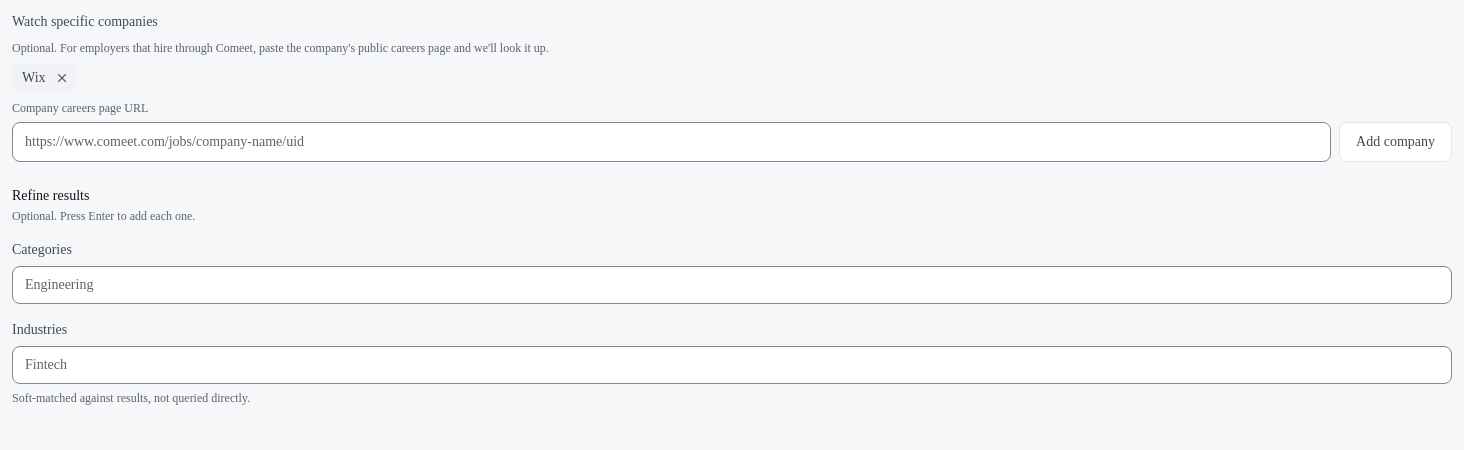
StepSources › rejects a response whose company is already watched
The image size is (1464, 450).
In the field labelled "Company careers page URL": (672, 142) [12,122,1331,162], type "https://other.test/page"
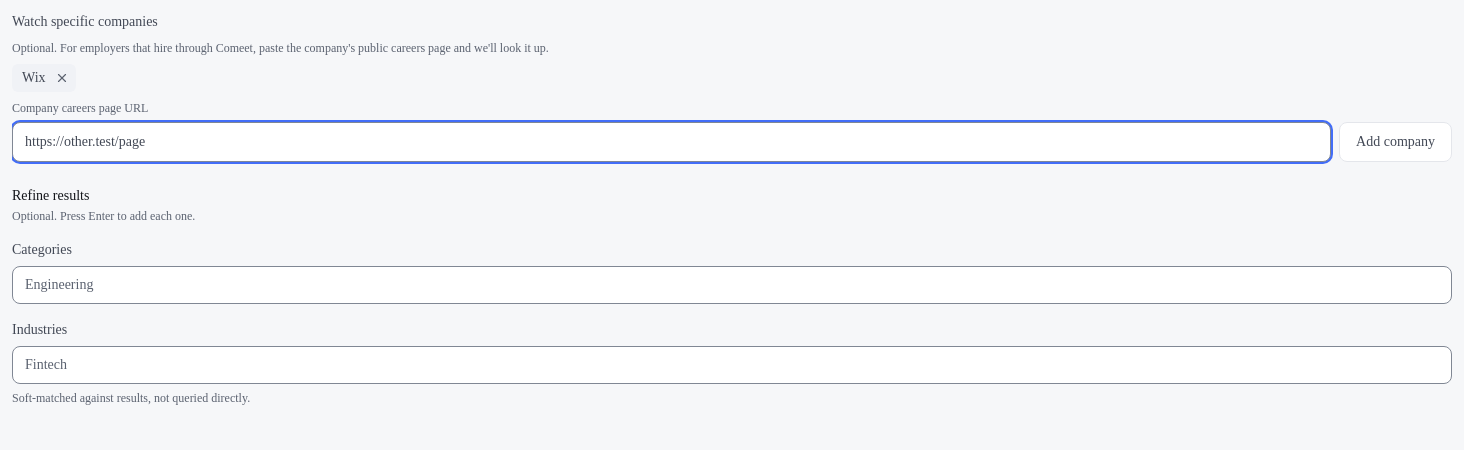
Click the button "Add company": (1396, 142) [1339,122,1452,162]
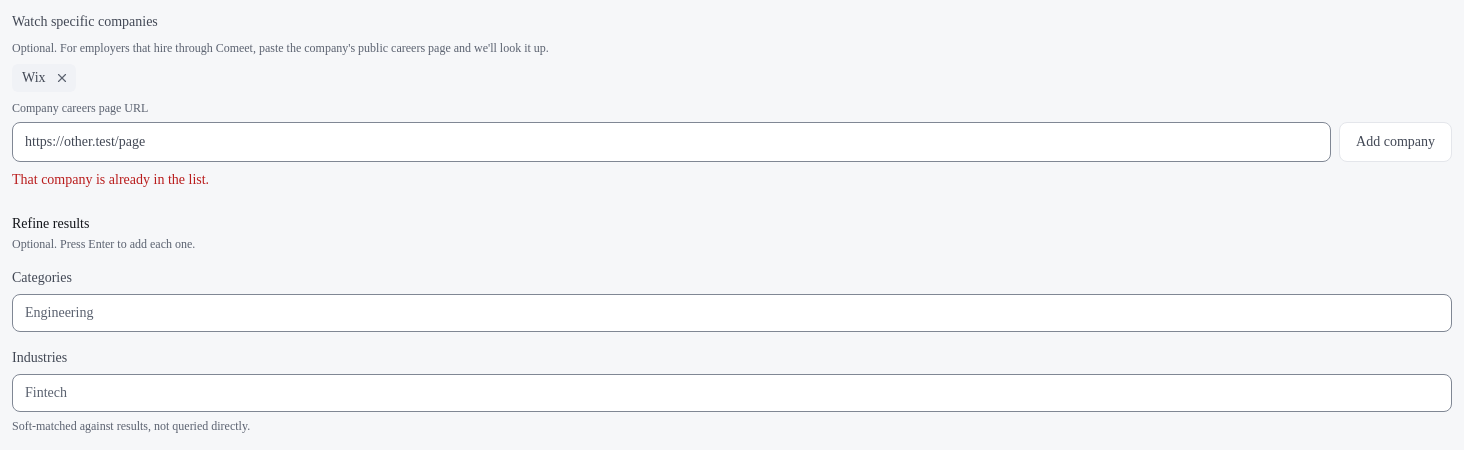
Expected: the text "Wix" is shown once, [22,68,46,88]
Expected: the message reads "That company is already in the list.", [12,172,209,187]
